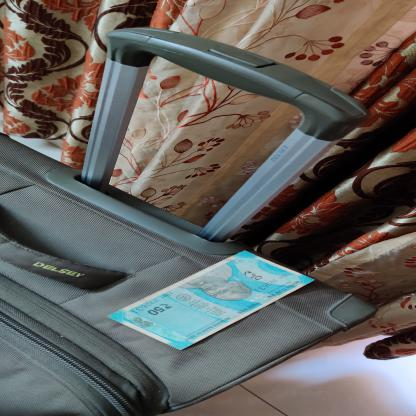New50Front: (107, 251, 318, 350)
